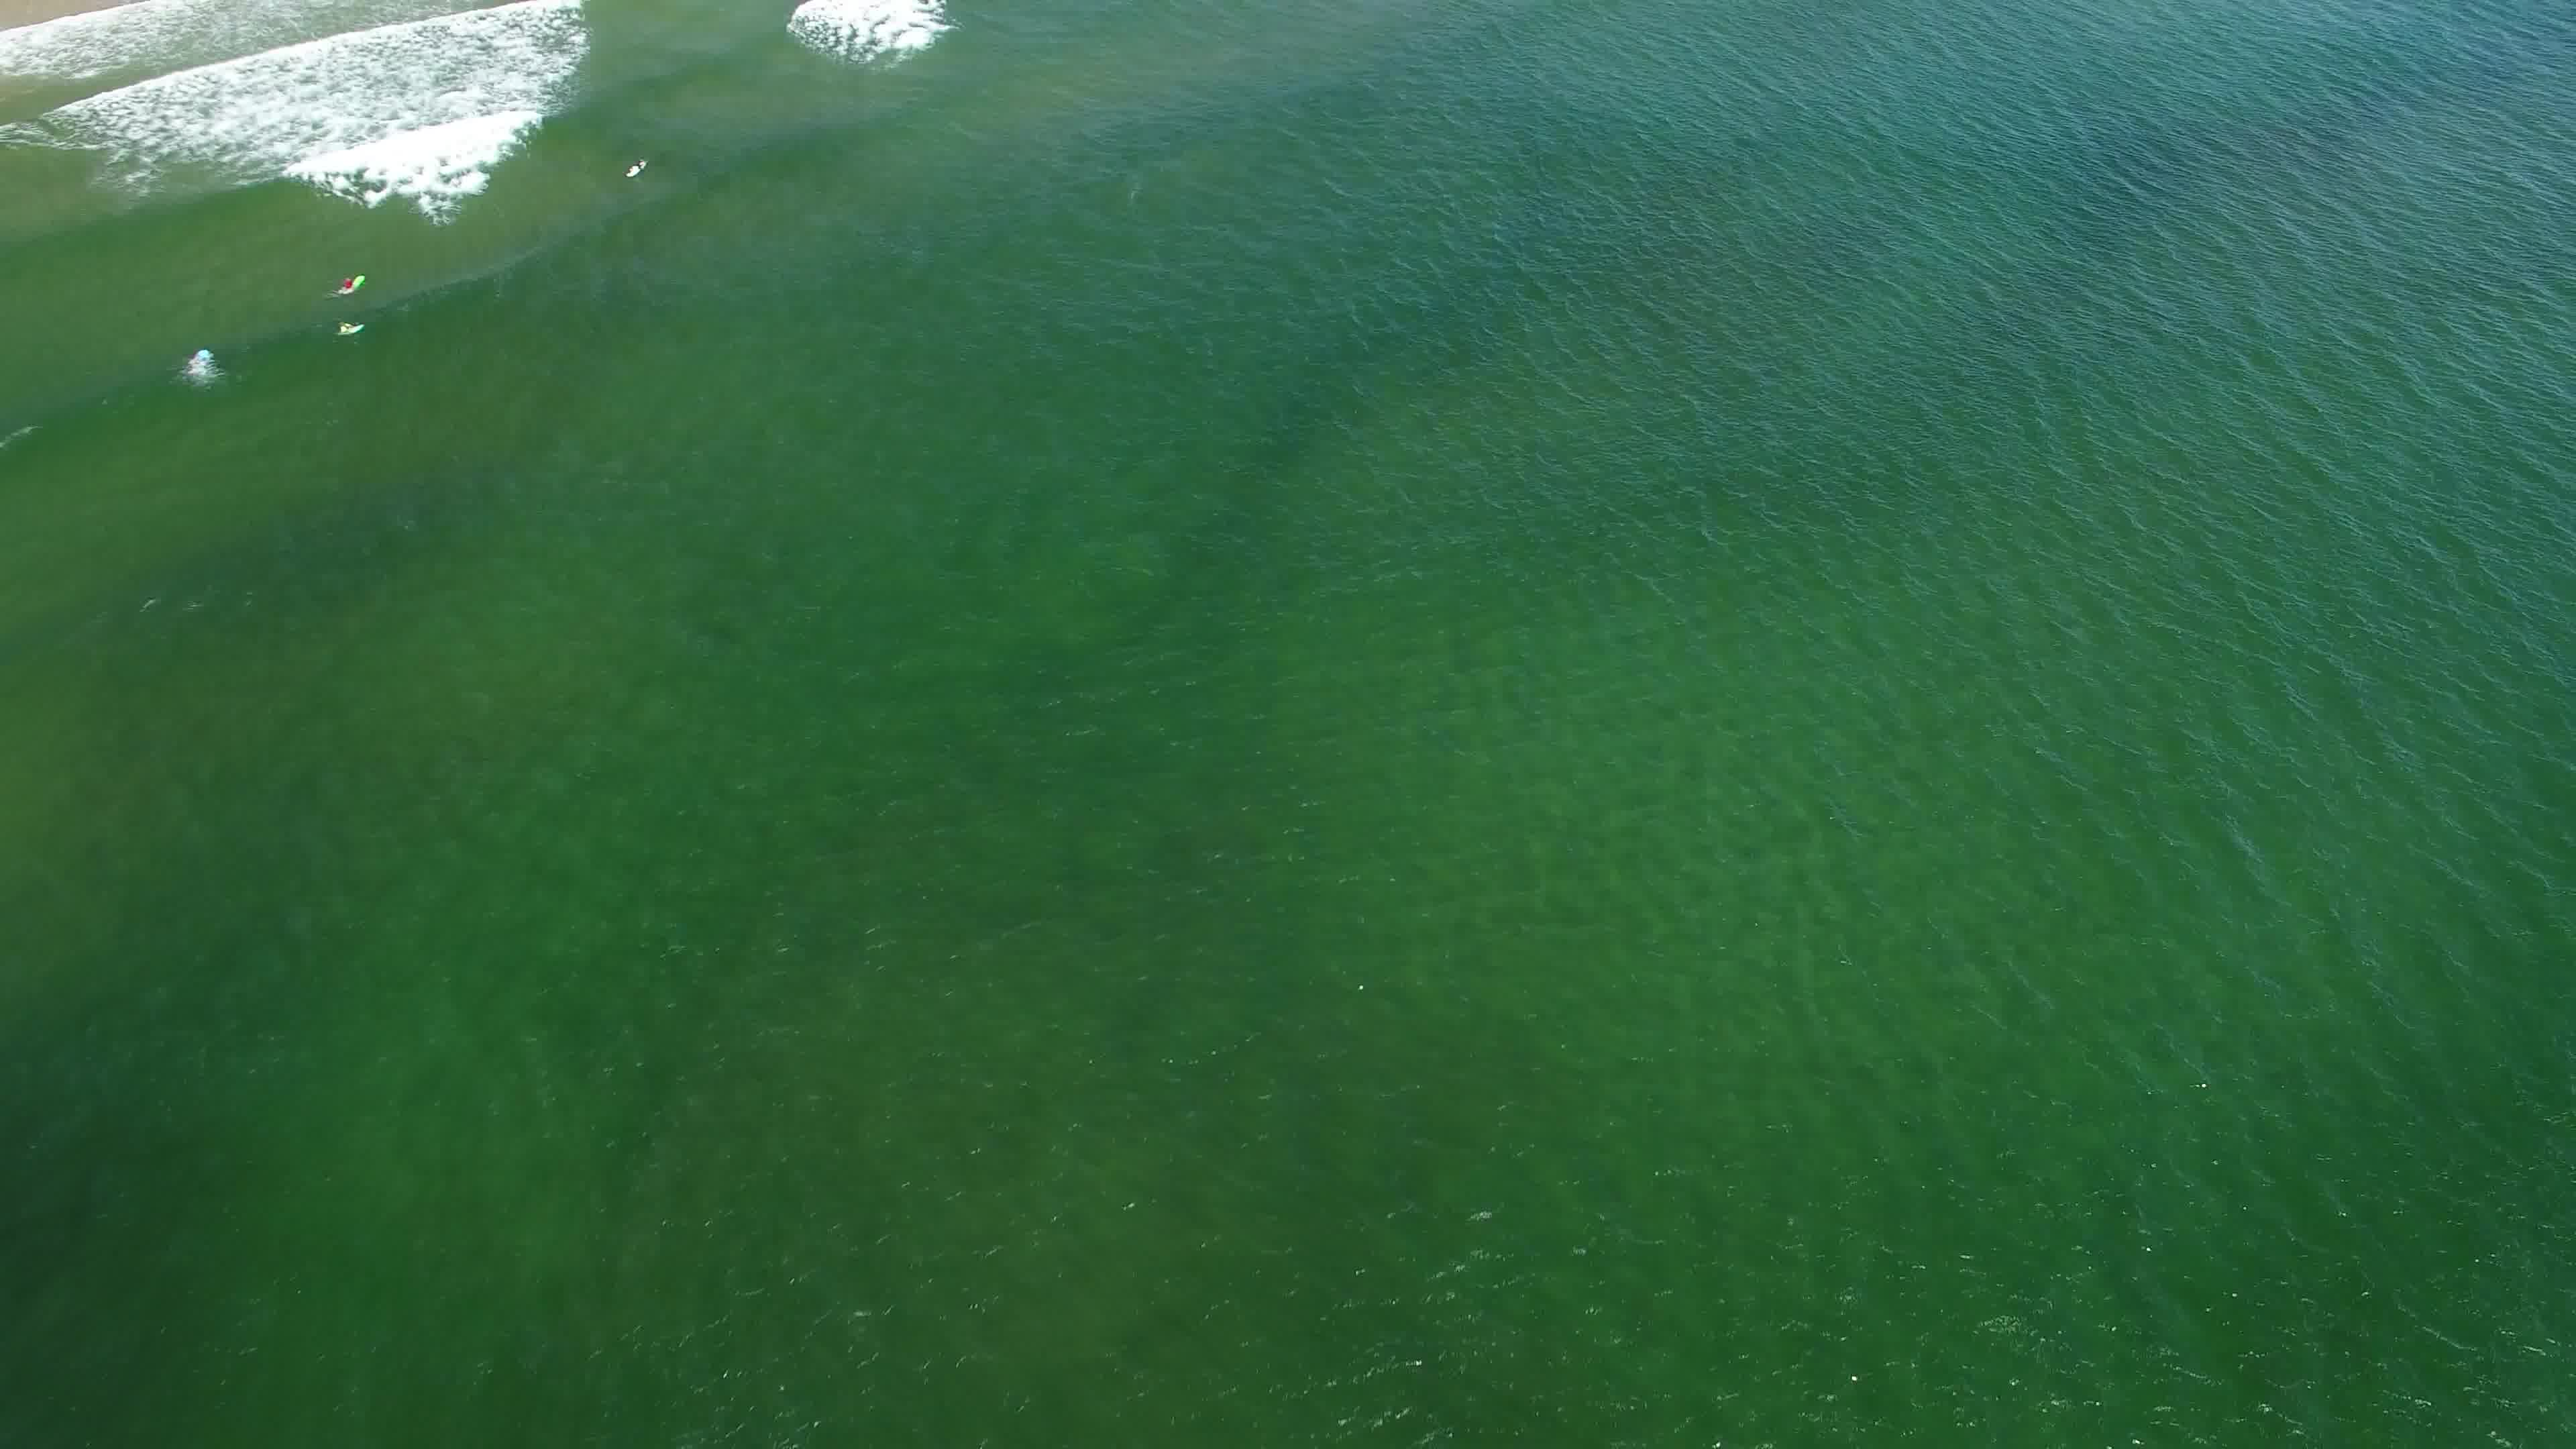surfer: (327, 267, 373, 299), (619, 152, 656, 186), (333, 318, 372, 341)
